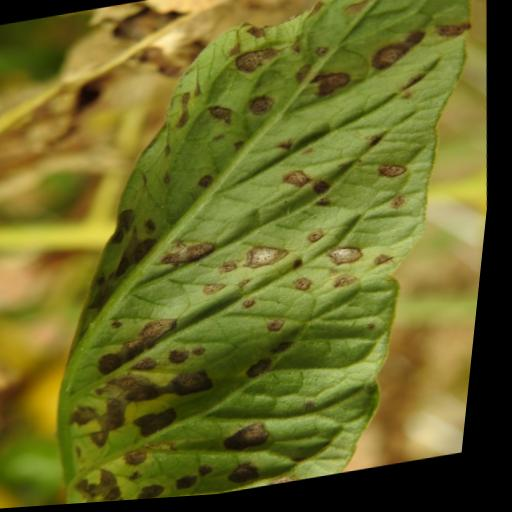Septoria: (0, 0, 512, 510)
